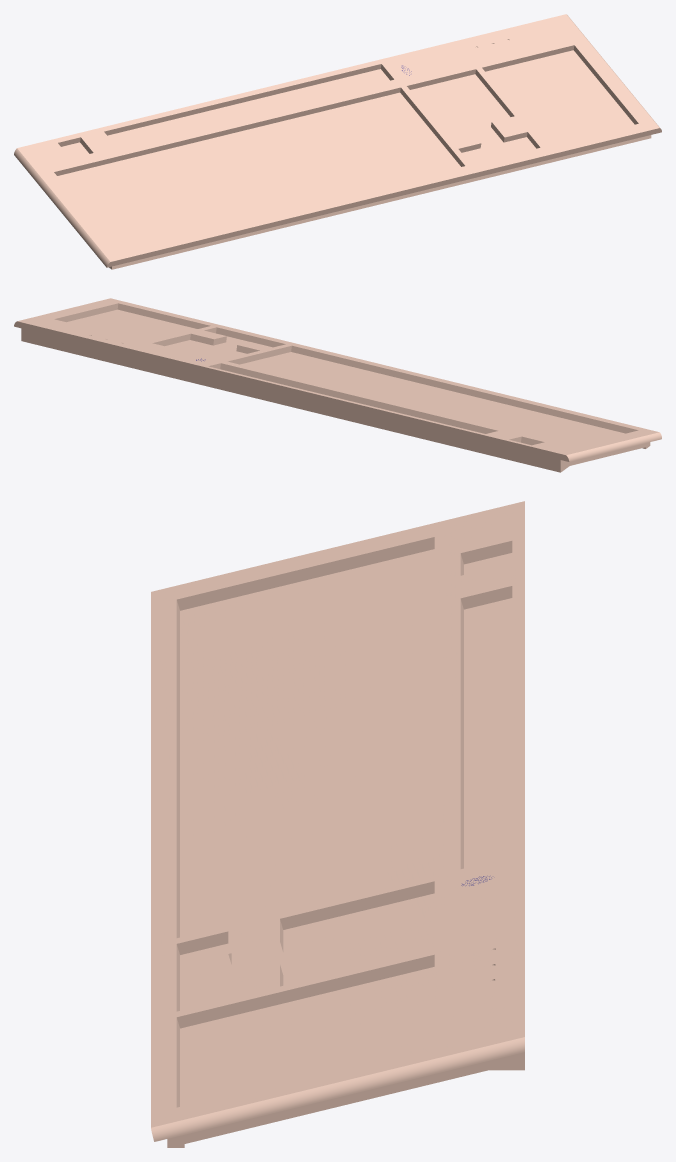
Rendered from original-156.obj.
The picture shows the model from 3 angles, top to bottom: view 1: azimuth 30°, elevation 25°; view 2: azimuth 150°, elevation 25°; view 3: azimuth 270°, elevation 25°; orthographic projection. The views are drawn at different scales.
Parts seen in each view (by area): view 1: mesh68/mesh68-geometry#mesh68-geometry; view 2: mesh68/mesh68-geometry#mesh68-geometry; view 3: mesh68/mesh68-geometry#mesh68-geometry.
Boxes of the visible parts, x1=… form: mesh68/mesh68-geometry#mesh68-geometry: x1=14, y1=14, x2=661, y2=269; mesh68/mesh68-geometry#mesh68-geometry: x1=14, y1=298, x2=661, y2=472; mesh68/mesh68-geometry#mesh68-geometry: x1=151, y1=501, x2=524, y2=1147.
Bounding box in the file's own units: 1.91 × 0.1888 × 0.5563.
